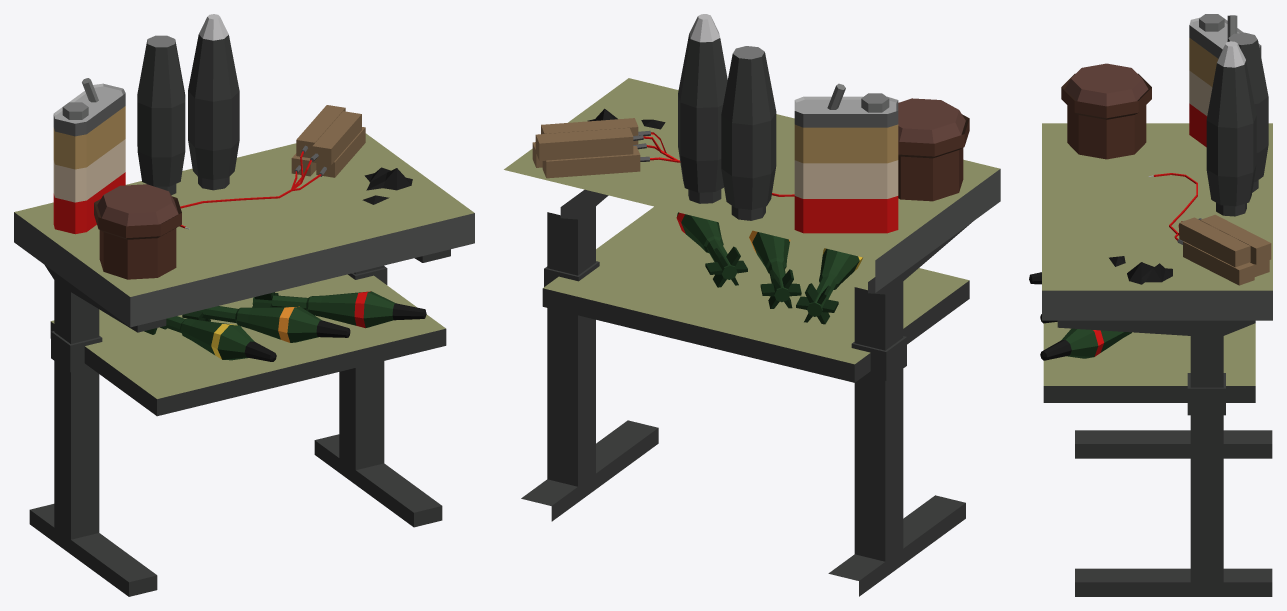
File: ExplosivesBench.glb
The picture shows the model from 3 angles, left to right: view 1: azimuth 30°, elevation 25°; view 2: azimuth 150°, elevation 25°; view 3: azimuth 270°, elevation 25°; orthographic projection. The views are drawn at different scales.
Parts seen in each view (by area): view 1: ExplosivesBench; view 2: ExplosivesBench; view 3: ExplosivesBench.
Boxes of the visible parts, x1=… form: ExplosivesBench: x1=14, y1=14, x2=474, y2=596; ExplosivesBench: x1=504, y1=14, x2=1000, y2=596; ExplosivesBench: x1=1029, y1=14, x2=1272, y2=596.
Bounding box in the file's own units: 0.9198 × 1.23 × 0.5671.
1 material, 1 textured.
